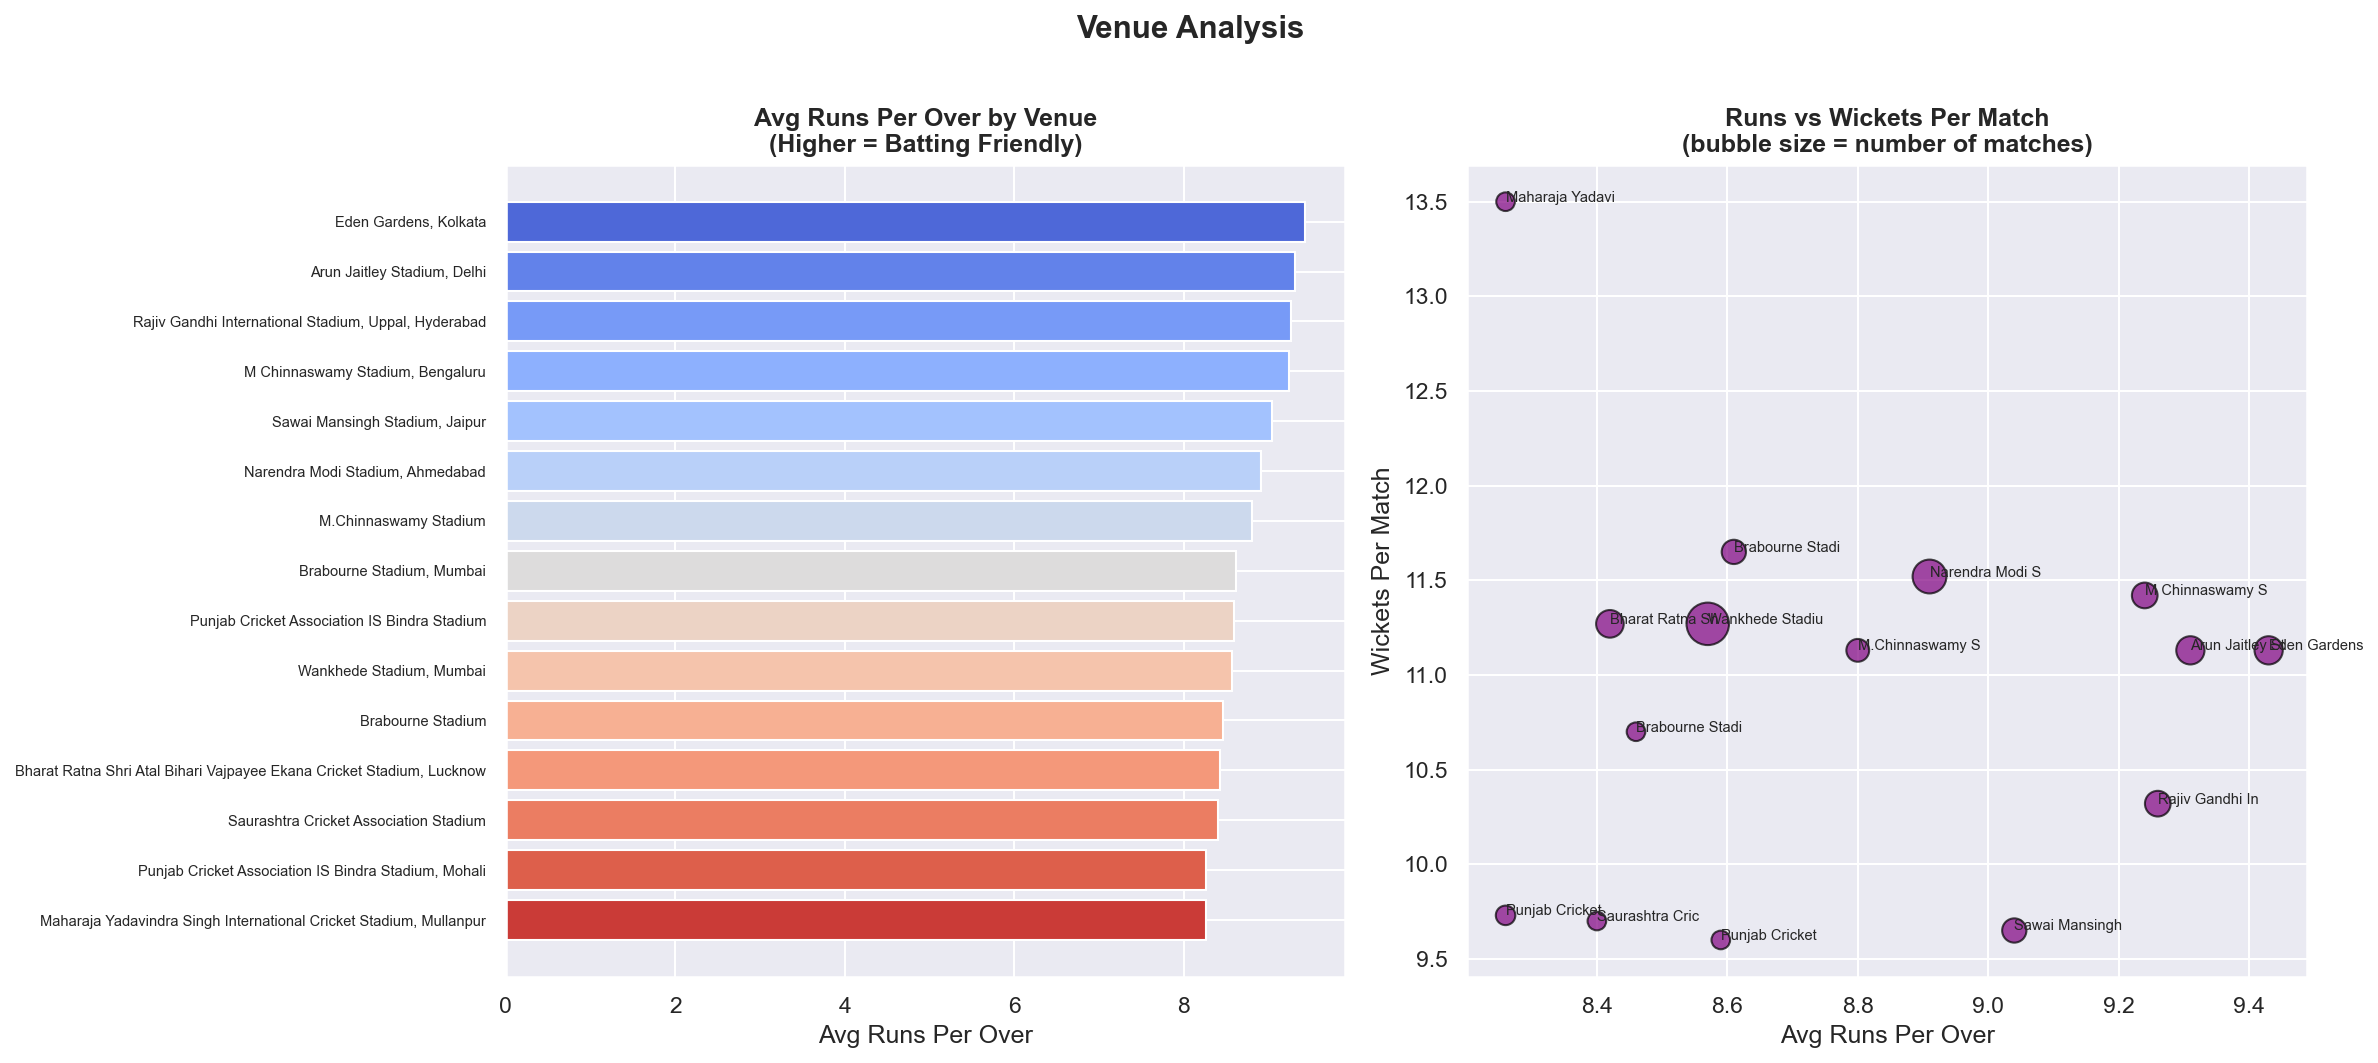

Layout of this report page (visuals, bound fields, positions):
{"tool":"powerbi","page":{"name":"Venue Intelligence","canvas":[1280,720],"ordinal":2},"visuals":[{"type":"textbox","box":[10.6,0,1269.4,80.9],"z":0},{"type":"clusteredBarChart","title":"Avg Runs Per Over by Venue","fields":{"Category":["ipl_clean.venue"],"Y":["Avg(ipl_clean.runs_total)"]},"box":[46.9,98,566.5,411],"z":1},{"type":"clusteredBarChart","title":"Total Wickets by Venue","fields":{"Category":["ipl_clean.venue"],"Y":["Sum(ipl_clean.bowler_wicket)"]},"box":[647.5,98,600.6,411],"z":2},{"type":"scatterChart","title":"Batting vs Bowling Friendly Venues","fields":{"Category":["ipl_clean.venue"],"X":["Avg(ipl_clean.runs_total)"],"Y":["Avg(ipl_clean.bowler_wicket)"]},"box":[46.9,536.7,1201.2,168.3],"z":3},{"type":"slicer","fields":{"Values":["ipl_clean.venue"]},"box":[1162.9,6.4,102.2,74.5],"z":4}]}

Visuals, with their boxes on the page's 1280x720 design canvas (x1, y1, x2, y2). These are canvas units, not pixel positions in the 2378x1063 screenshot, which may show the page scaled, cropped or inside an application window:
textbox: left=11, top=0, right=1280, bottom=81
"Avg Runs Per Over by Venue" clusteredBarChart: left=47, top=98, right=613, bottom=509
"Total Wickets by Venue" clusteredBarChart: left=648, top=98, right=1248, bottom=509
"Batting vs Bowling Friendly Venues" scatterChart: left=47, top=537, right=1248, bottom=705
slicer - ipl_clean.venue: left=1163, top=6, right=1265, bottom=81
